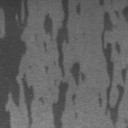red iron: (0, 0, 86, 128), (98, 5, 128, 128), (73, 112, 80, 120), (99, 0, 105, 7)
